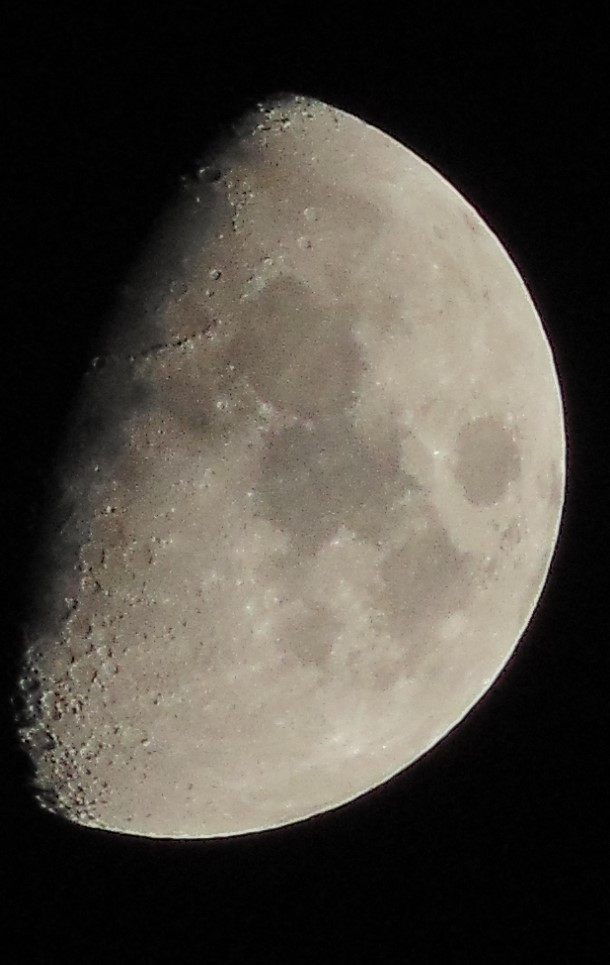crater: (445, 377, 540, 522), (83, 511, 132, 553), (122, 540, 166, 581), (187, 152, 232, 188), (288, 233, 332, 267), (298, 200, 331, 231), (162, 271, 194, 300), (205, 396, 238, 416), (205, 264, 229, 283)
